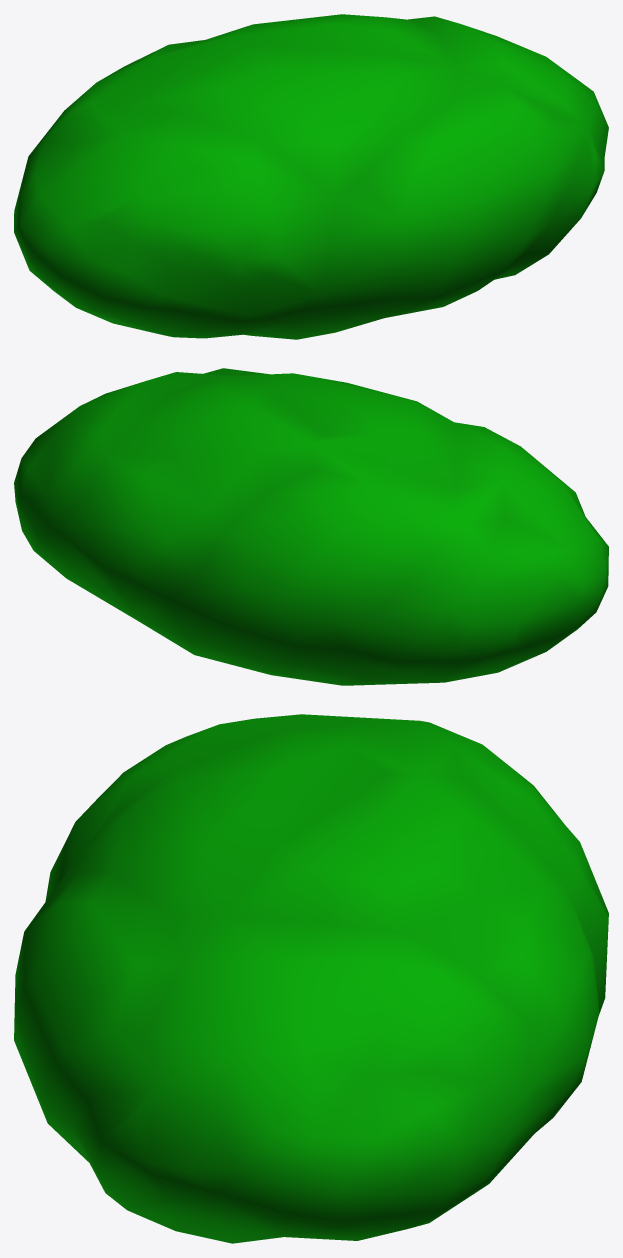
The model's file is rock_small_c.glb.
The picture shows the model from 3 angles, top to bottom: view 1: azimuth 30°, elevation 25°; view 2: azimuth 150°, elevation 25°; view 3: azimuth 270°, elevation 25°; orthographic projection. The views are drawn at different scales.
Parts seen in each view (by area): view 1: LOD0; view 2: LOD0; view 3: LOD0.
Boxes of the visible parts, x1,y1,x2,y2 form: LOD0: (14,14,608,339); LOD0: (14,368,608,685); LOD0: (14,714,608,1243).
Size of what is drawn, in the model's own units: 0.7869 by 0.3148 by 0.4933.
